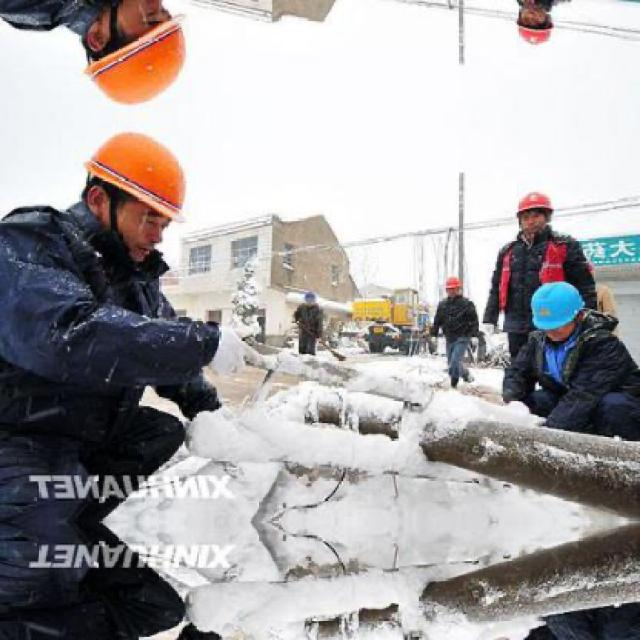con casco: (13, 127, 210, 290), (505, 268, 616, 368), (496, 179, 568, 251), (441, 254, 480, 301)
